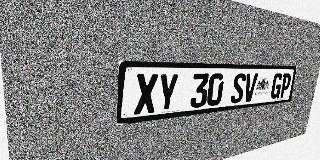0: (206, 73, 225, 107)
3: (190, 73, 209, 108)
G: (270, 73, 283, 99)
P: (279, 73, 292, 98)
S: (230, 73, 247, 104)
V: (242, 73, 258, 102)
X: (134, 74, 158, 115)
Y: (156, 73, 179, 112)
